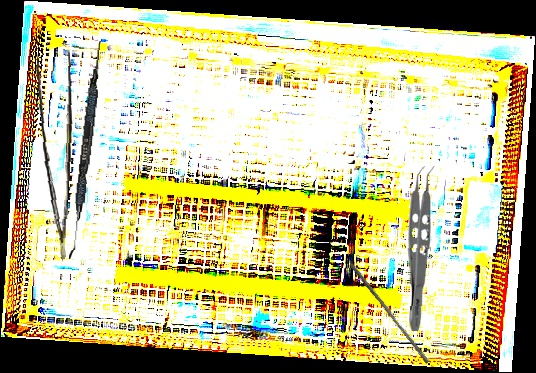Pusher: (345, 262, 434, 365)
Spatula Surgical: (68, 39, 104, 261)
Tissue Forceps: (26, 45, 77, 259), (406, 165, 438, 332)
